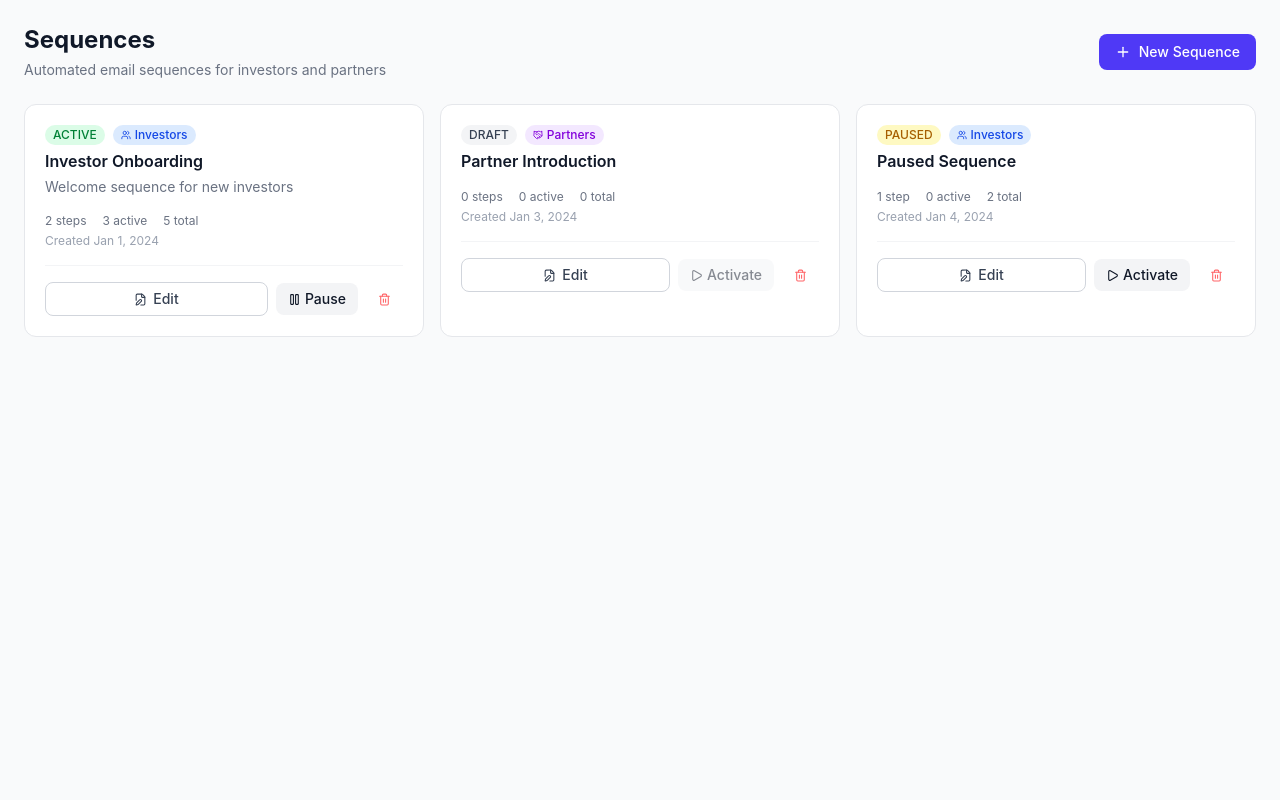
Test: SequencesPage › opens Create modal when New Sequence is clicked
The image size is (1280, 800).
Click the button "New Sequence" at (1177, 52), box [1099, 34, 1256, 70]
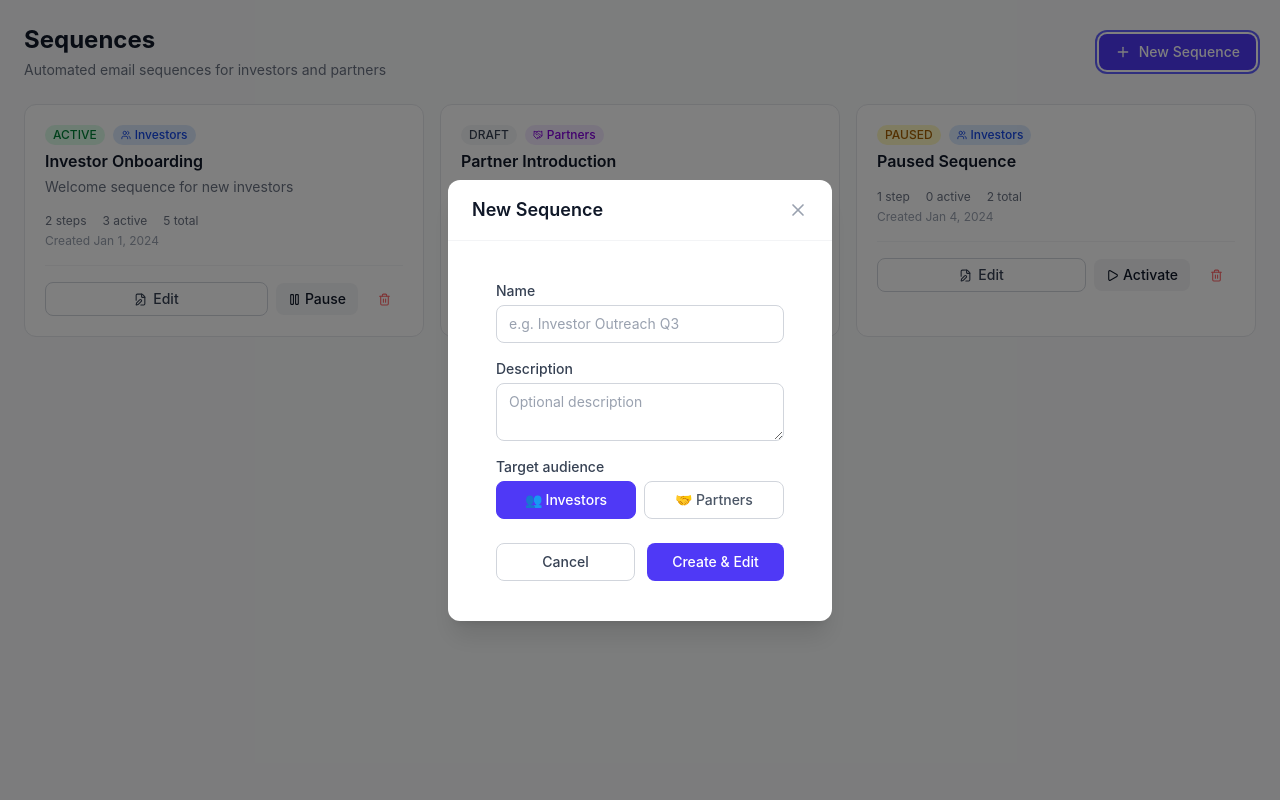
Now the dialog is shown, box [448, 180, 832, 620]
